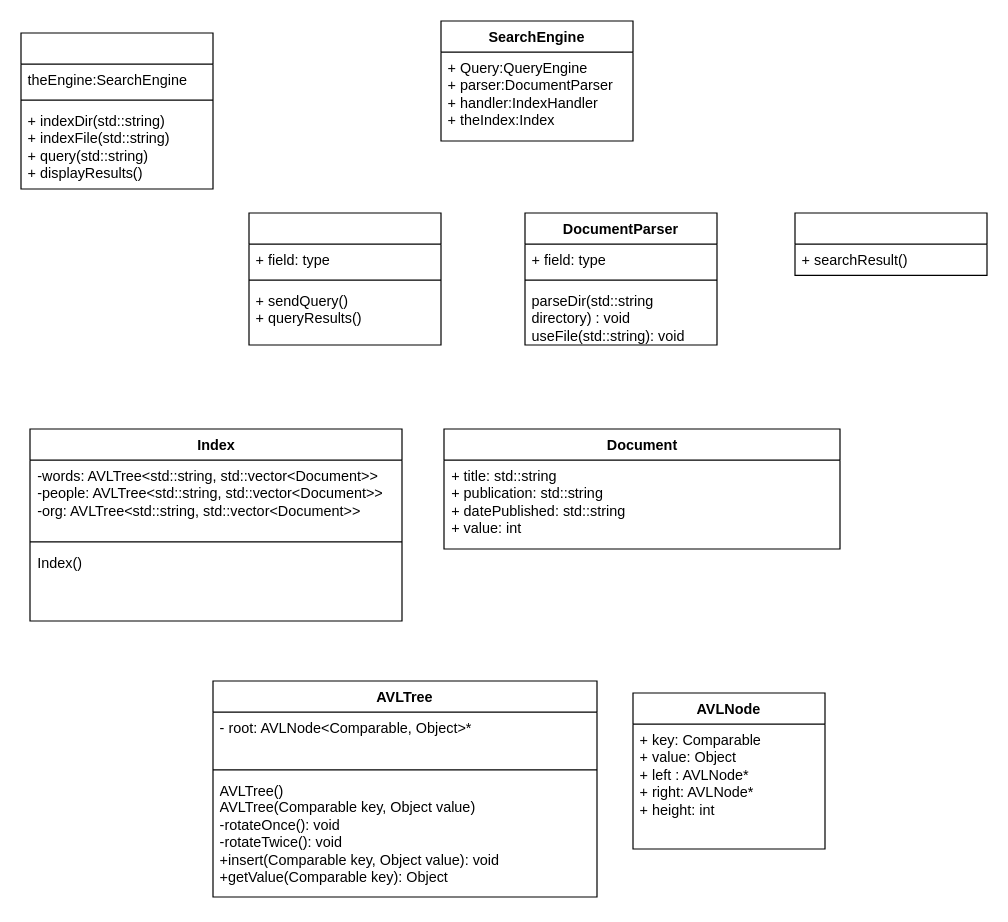
This 1008x922 diagram has some shape labels left out. The shapes that lost their labels are listed below. From the top down, each one's box as (x1, y1, x2, y2) in pixels, then its label:
(20, 32, 213, 189): supersearch
(794, 212, 987, 275): IndexHandler
(248, 212, 441, 345): QueryEngine
